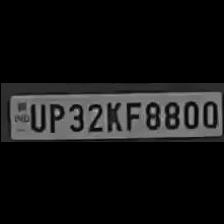0: (180, 98, 198, 128), (200, 98, 218, 127)
2: (85, 99, 103, 131)
3: (64, 99, 84, 131)
8: (142, 98, 160, 130), (162, 97, 180, 128)
F: (122, 98, 140, 130)
K: (103, 99, 121, 131)
P: (44, 98, 64, 132)
U: (26, 99, 44, 130)
